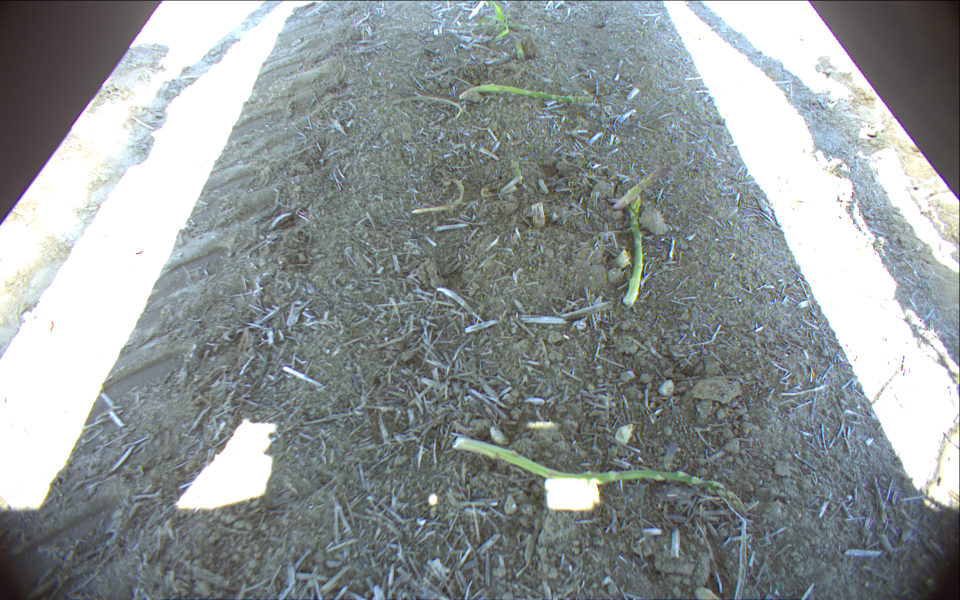aspa: (613, 164, 672, 213)
